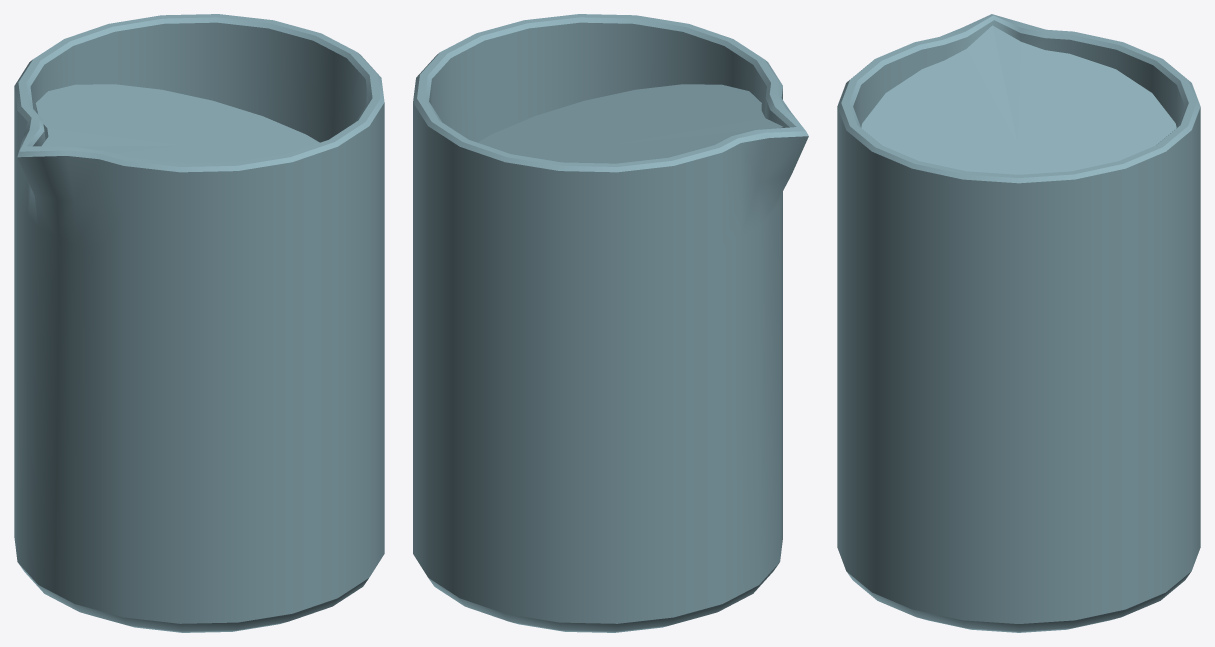
The model's file is BeackerBottle 1.fbx.
3 renders of one model, left to right at view 1: azimuth 30°, elevation 25°; view 2: azimuth 150°, elevation 25°; view 3: azimuth 270°, elevation 25°, orthographic. The views are drawn at different scales.
Visible parts, largest first — view 1: BeakerBottle, BeakerFull; view 2: BeakerBottle, BeakerFull; view 3: BeakerBottle, BeakerFull.
Boxes of the visible parts, x1=… form: BeakerBottle: x1=14, y1=14, x2=384, y2=632; BeakerFull: x1=35, y1=84, x2=319, y2=163; BeakerBottle: x1=413, y1=14, x2=808, y2=632; BeakerFull: x1=478, y1=84, x2=783, y2=163; BeakerBottle: x1=837, y1=14, x2=1200, y2=632; BeakerFull: x1=861, y1=25, x2=1176, y2=174.
Size of the model in its own units: 17.46 by 22.19 by 15.73.
